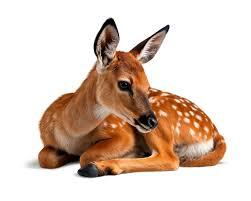non-mango: (37, 16, 226, 177)
